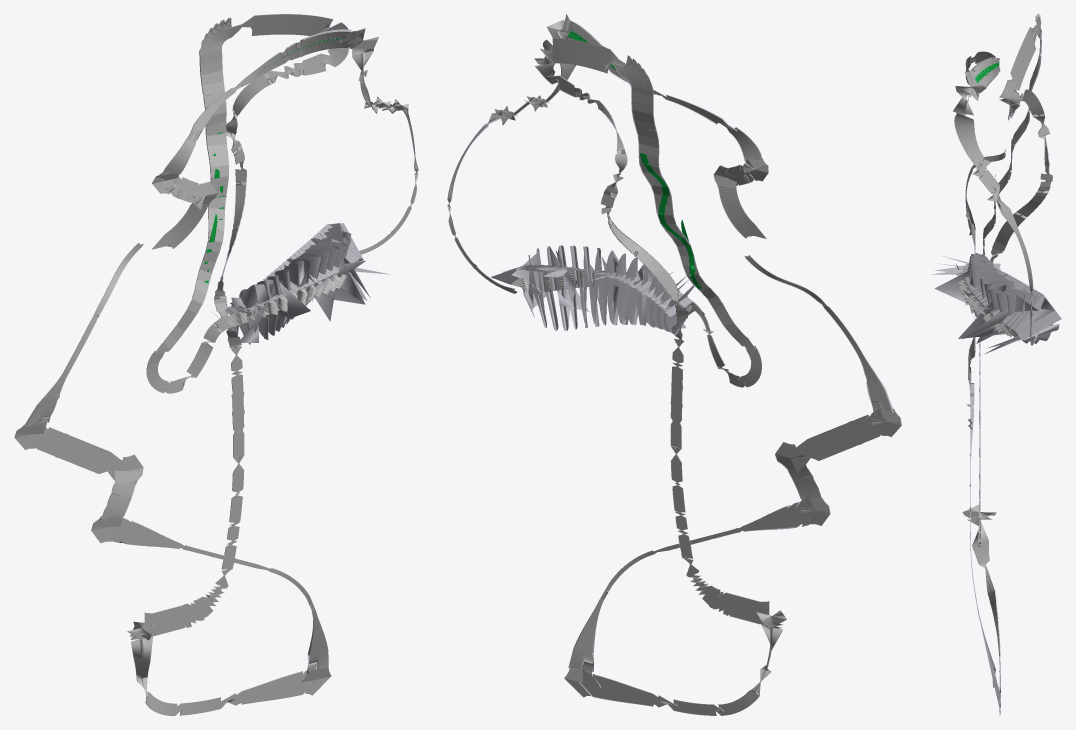
Rendered from track.obj.
3 views of the same model, side by side, from view 1: azimuth 30°, elevation 25°; view 2: azimuth 150°, elevation 25°; view 3: azimuth 270°, elevation 25° (orthographic).
Parts seen in each view (by area): view 1: FZGXStream47.000_PreviewMesh, FZGXStream51.000_PreviewMesh, FZGXStream19.000_PreviewMesh, FZGXStream57.000_PreviewMesh, FZGXStream53.000_PreviewMesh, FZGXStream32.000_PreviewMesh, FZGXStream13.000_PreviewMesh, FZGXStream8.000_PreviewMesh, FZGXStream58.000_PreviewMesh, FZGXStream22.000_PreviewMesh, FZGXStream0.000_PreviewMesh, FZGXStream1.000_PreviewMesh (+9 smaller); view 2: FZGXStream47.000_PreviewMesh, FZGXStream51.000_PreviewMesh, FZGXStream19.000_PreviewMesh, FZGXStream57.000_PreviewMesh, FZGXStream53.000_PreviewMesh, FZGXStream13.000_PreviewMesh, FZGXStream8.000_PreviewMesh, FZGXStream58.000_PreviewMesh, FZGXStream22.000_PreviewMesh, FZGXStream0.000_PreviewMesh, FZGXStream11.000_PreviewMesh, FZGXStream24.000_PreviewMesh (+4 smaller); view 3: FZGXStream47.000_PreviewMesh, FZGXStream57.000_PreviewMesh, FZGXStream35.000_PreviewMesh, FZGXStream51.000_PreviewMesh, FZGXStream53.000_PreviewMesh, FZGXStream32.000_PreviewMesh, FZGXStream45.000_PreviewMesh, FZGXStream56.000_PreviewMesh, FZGXStream5.000_PreviewMesh, FZGXStream54.000_PreviewMesh, FZGXStream13.000_PreviewMesh, FZGXStream6.000_PreviewMesh (+5 smaller).
Part boxes in pixels (x1,y1,x2,y2): FZGXStream47.000_PreviewMesh: (212, 223, 390, 344); FZGXStream51.000_PreviewMesh: (156, 45, 229, 353); FZGXStream19.000_PreviewMesh: (36, 427, 124, 473); FZGXStream57.000_PreviewMesh: (214, 133, 246, 348); FZGXStream53.000_PreviewMesh: (224, 14, 332, 35); FZGXStream32.000_PreviewMesh: (233, 29, 351, 89); FZGXStream13.000_PreviewMesh: (112, 518, 270, 570); FZGXStream8.000_PreviewMesh: (221, 671, 305, 705); FZGXStream58.000_PreviewMesh: (231, 346, 244, 457); FZGXStream22.000_PreviewMesh: (25, 318, 97, 426); FZGXStream0.000_PreviewMesh: (221, 455, 244, 570); FZGXStream1.000_PreviewMesh: (175, 568, 231, 628); FZGXStream47.000_PreviewMesh: (491, 245, 696, 335); FZGXStream51.000_PreviewMesh: (631, 86, 755, 348); FZGXStream19.000_PreviewMesh: (790, 414, 885, 460); FZGXStream57.000_PreviewMesh: (601, 175, 688, 341); FZGXStream53.000_PreviewMesh: (540, 38, 625, 73); FZGXStream13.000_PreviewMesh: (654, 501, 815, 552); FZGXStream8.000_PreviewMesh: (579, 674, 676, 707); FZGXStream58.000_PreviewMesh: (670, 339, 683, 448); FZGXStream22.000_PreviewMesh: (822, 305, 893, 412); FZGXStream0.000_PreviewMesh: (670, 446, 692, 560); FZGXStream11.000_PreviewMesh: (568, 598, 603, 672); FZGXStream24.000_PreviewMesh: (718, 186, 766, 238); FZGXStream47.000_PreviewMesh: (931, 253, 1061, 354); FZGXStream57.000_PreviewMesh: (990, 136, 1052, 262); FZGXStream35.000_PreviewMesh: (953, 97, 984, 165); FZGXStream51.000_PreviewMesh: (983, 30, 1041, 254); FZGXStream53.000_PreviewMesh: (1010, 25, 1037, 90); FZGXStream32.000_PreviewMesh: (971, 57, 1000, 88); FZGXStream45.000_PreviewMesh: (996, 197, 1033, 301); FZGXStream56.000_PreviewMesh: (1021, 89, 1050, 139); FZGXStream5.000_PreviewMesh: (972, 522, 989, 568); FZGXStream54.000_PreviewMesh: (999, 79, 1021, 120); FZGXStream13.000_PreviewMesh: (966, 383, 974, 539); FZGXStream6.000_PreviewMesh: (985, 565, 998, 633).
Bounding box in the file's own units: 3547 × 5332 × 952.
